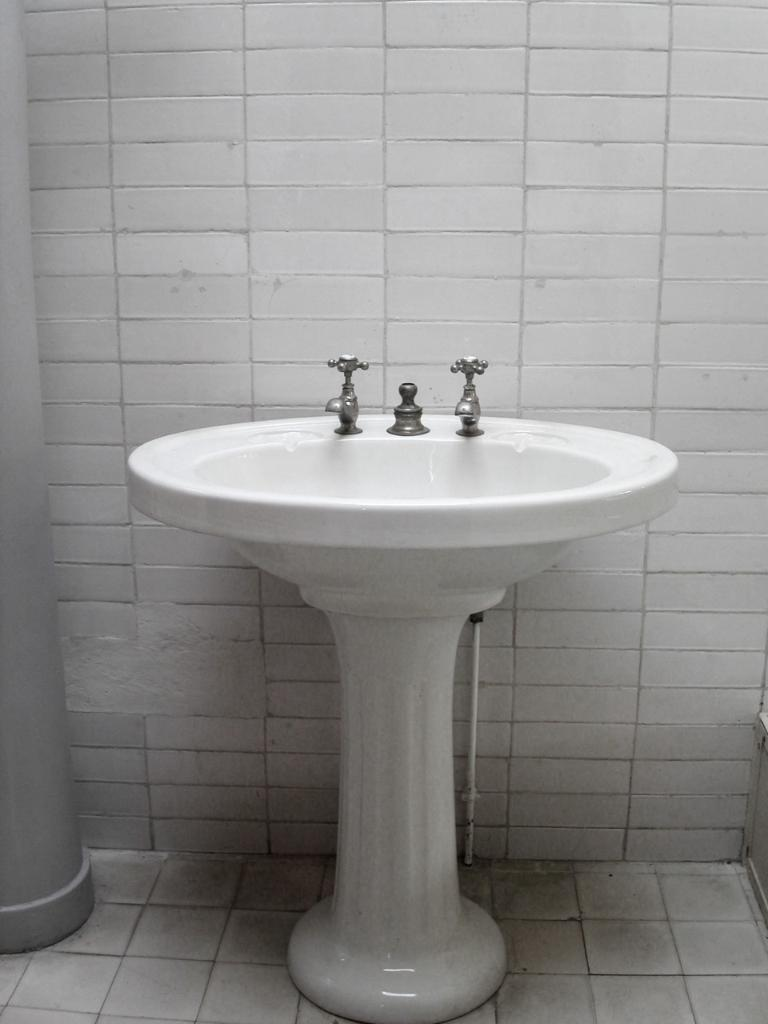tap: (444, 352, 490, 439), (325, 350, 363, 433)
